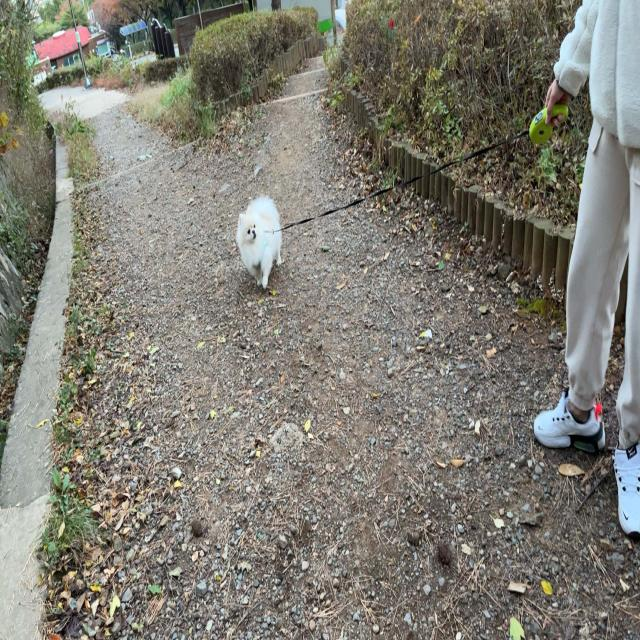Leashed_Dog: (235, 51, 612, 290)
